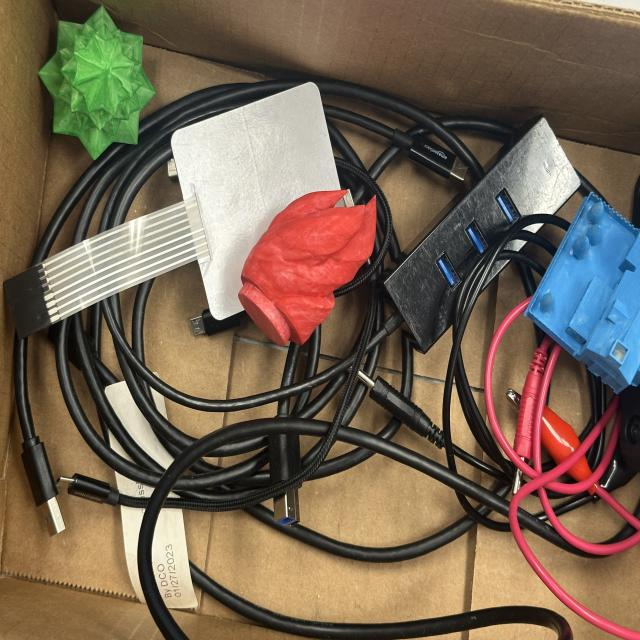fire: (236, 183, 380, 349)
house: (522, 185, 638, 394)
tree: (36, 4, 158, 161)
